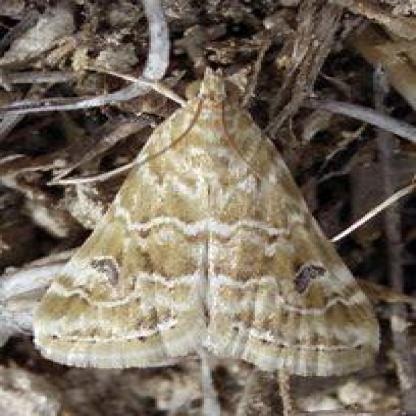Hellula undalis: (29, 56, 393, 377)
